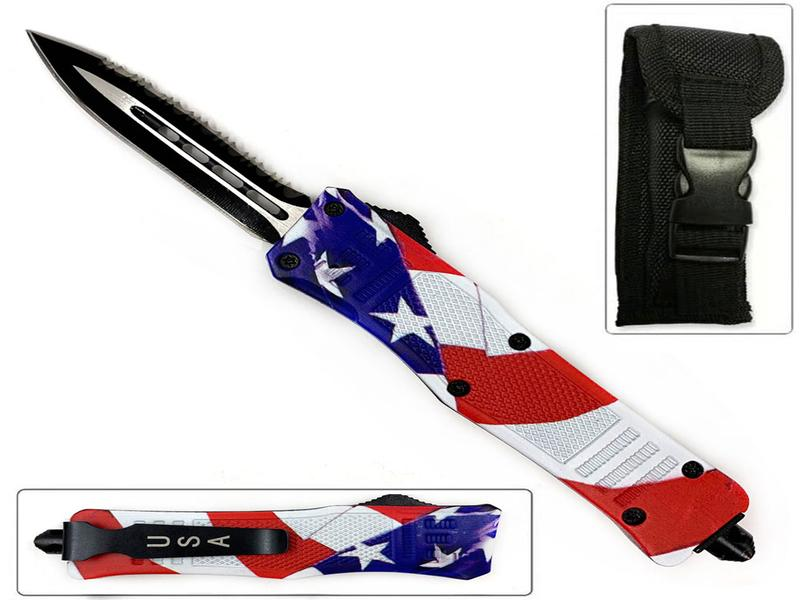KNIFE: (20, 21, 765, 572)
